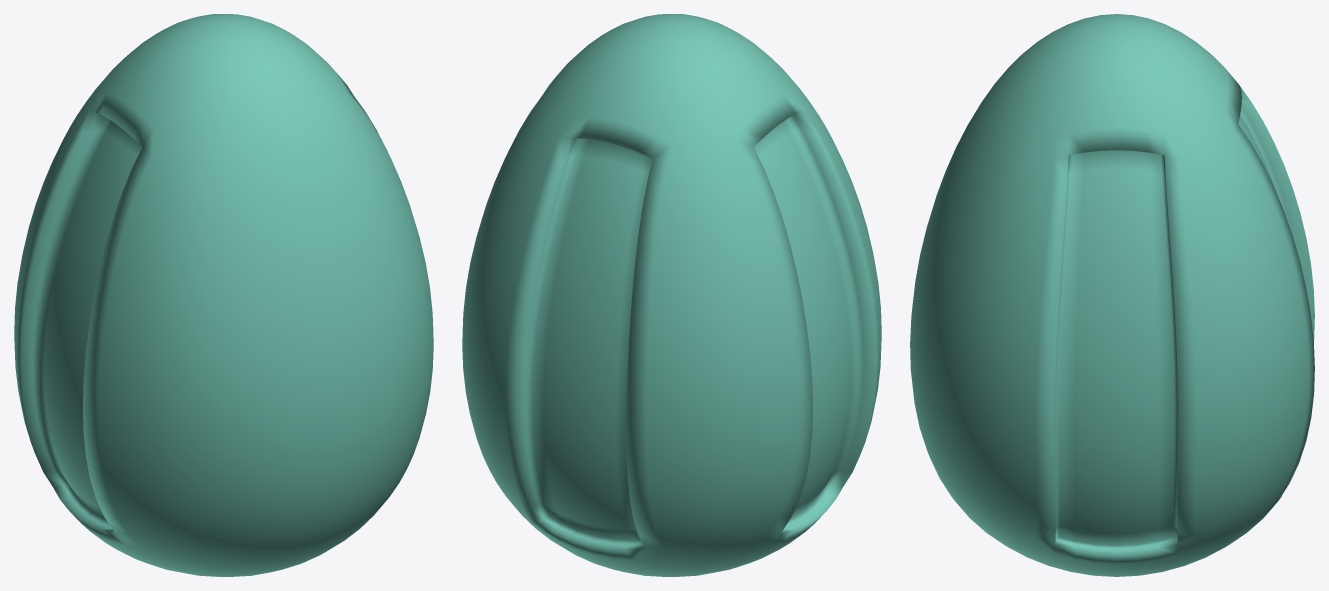
File: Slime Egg  New 3.fbx
3 views of the same model, side by side, from view 1: azimuth 30°, elevation 25°; view 2: azimuth 150°, elevation 25°; view 3: azimuth 270°, elevation 25° (orthographic).
Visible parts, largest first — view 1: Slime Egg New.003; view 2: Slime Egg New.003; view 3: Slime Egg New.003.
Part boxes in pixels (left/top/right/bottom): Slime Egg New.003: left=14, top=14, right=433, bottom=576; Slime Egg New.003: left=462, top=14, right=881, bottom=576; Slime Egg New.003: left=910, top=14, right=1314, bottom=576.
Bounding box in the file's own units: 245 × 362 × 251.
